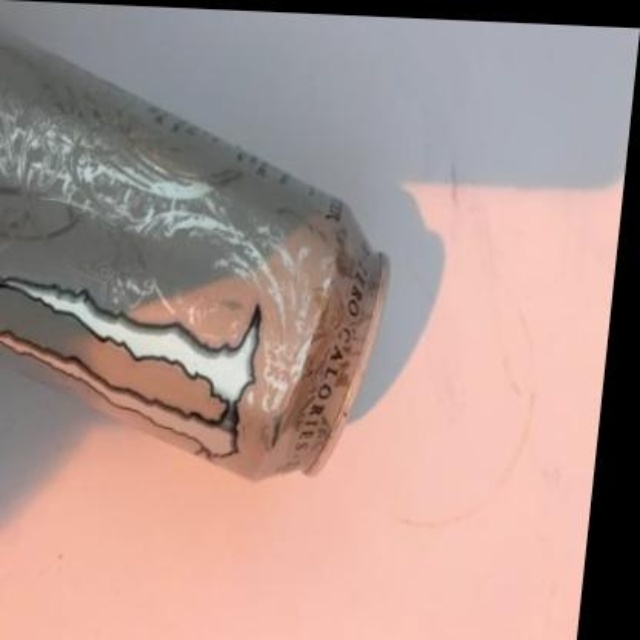trash: (0, 31, 385, 477)
